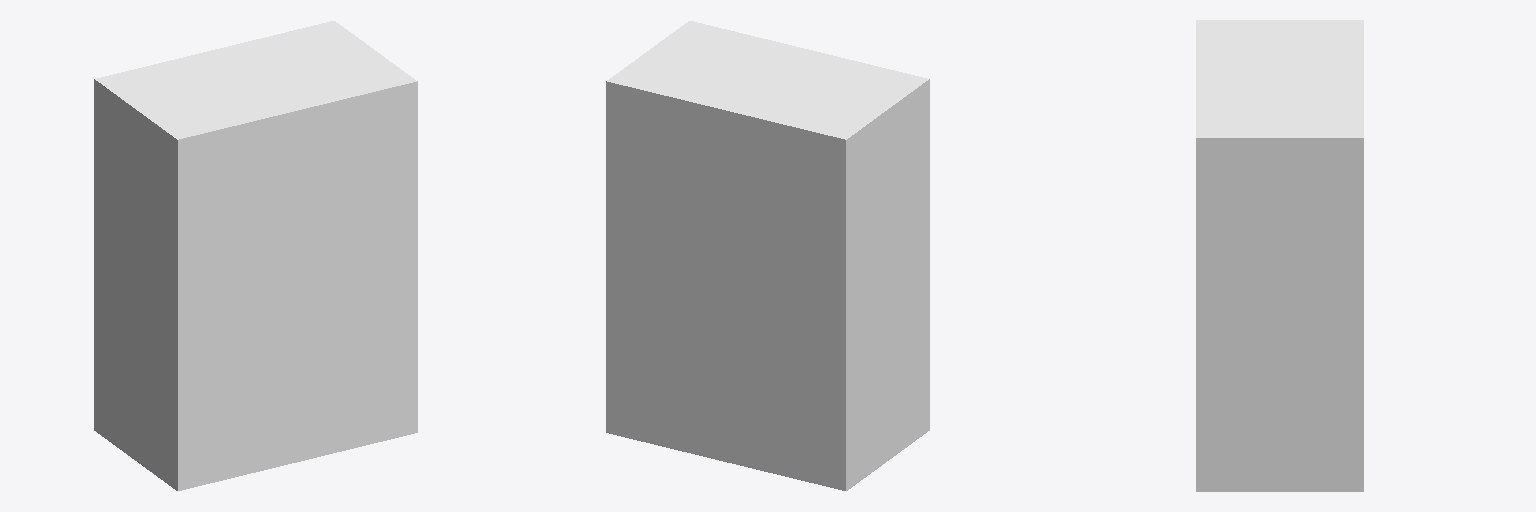
The robot description file, URDF, robot "obstacle2.obj":
<robot name="obstacle2.obj">
	<link name="_name">
		<visual>
			<origin xyz="0.0 0.0 -0.07" rpy="0 0 0" />
			<geometry>
				<mesh filename="obstacle2.obj" scale="0.001 0.001 0.001" />
			</geometry>
			<material name="texture">
				<color rgba="1.0 1.0 1.0 1.0" />
			</material>
		</visual>
		<collision>
			<geometry>
				<mesh filename="obstacle2_vhacd.obj" scale="0.001 0.001 0.001" />
			</geometry>
		<origin xyz="0.0 0.0 -0.07" rpy="0 0 0" /></collision>
		<inertial>
			<mass value="0.3" />
			<inertia ixx="0.6" ixy="0.0" ixz="0.0" iyy="0.5" iyz="-0.0" izz="0.08" />
		</inertial>
	</link>
</robot>

--- What the picture shows (computed from the rendered views, not written in the file) ---
The picture shows the robot from 3 angles, left to right: view 1: azimuth 30°, elevation 25°; view 2: azimuth 150°, elevation 25°; view 3: azimuth 270°, elevation 25°; orthographic projection.
Robot: obstacle2.obj — 1 links, 0 joints (none); root link _name; default pose: every joint at zero.
Links seen in each view (by area): view 1: _name; view 2: _name; view 3: _name.
Boxes of the visible links, x1,y1,x2,y2 form: _name: [94, 21, 417, 490]; _name: [606, 21, 929, 490]; _name: [1196, 20, 1363, 491].
Size in the robot's own frame: 0.1 by 0.06 by 0.14 metres.
Meshes: 1 distinct files referenced, 1 mesh visuals loaded (1 OBJ).